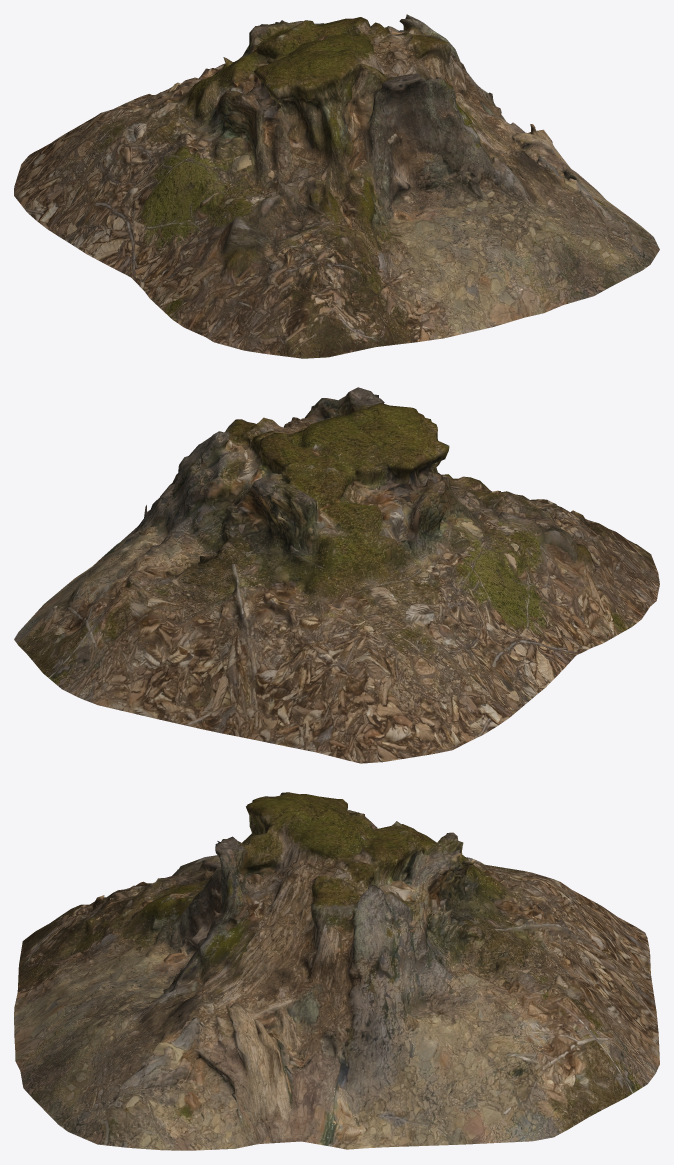
The model's file is tree_stump_01.glb.
The picture shows the model from 3 angles, top to bottom: view 1: azimuth 30°, elevation 25°; view 2: azimuth 150°, elevation 25°; view 3: azimuth 270°, elevation 25°; orthographic projection. The views are drawn at different scales.
Parts seen in each view (by area): view 1: tree_stump_01; view 2: tree_stump_01; view 3: tree_stump_01.
Part boxes in pixels (x1=…): tree_stump_01: x1=14, y1=14, x2=659, y2=358; tree_stump_01: x1=14, y1=387, x2=659, y2=763; tree_stump_01: x1=14, y1=792, x2=659, y2=1150.
Bounding box in the file's own units: 1.43 × 0.5709 × 1.59.
1 material, 1 textured.
